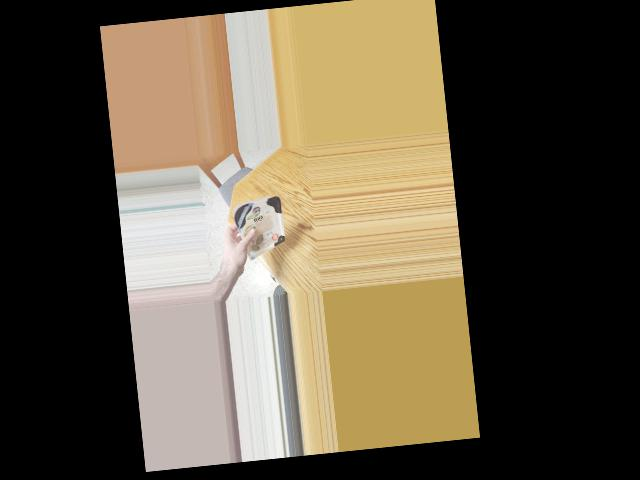cheese: (239, 194, 281, 256)
